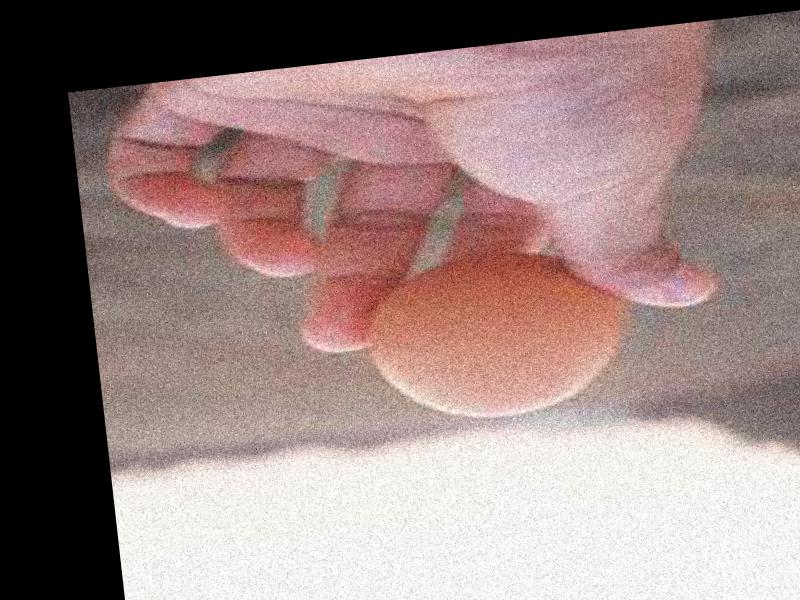Eggs: (360, 243, 630, 430)
